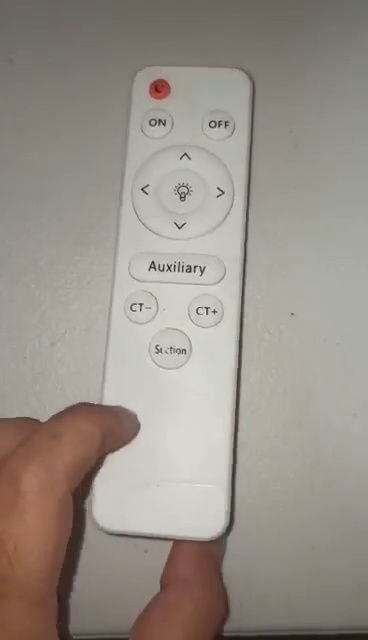remote: (87, 66, 258, 539)
